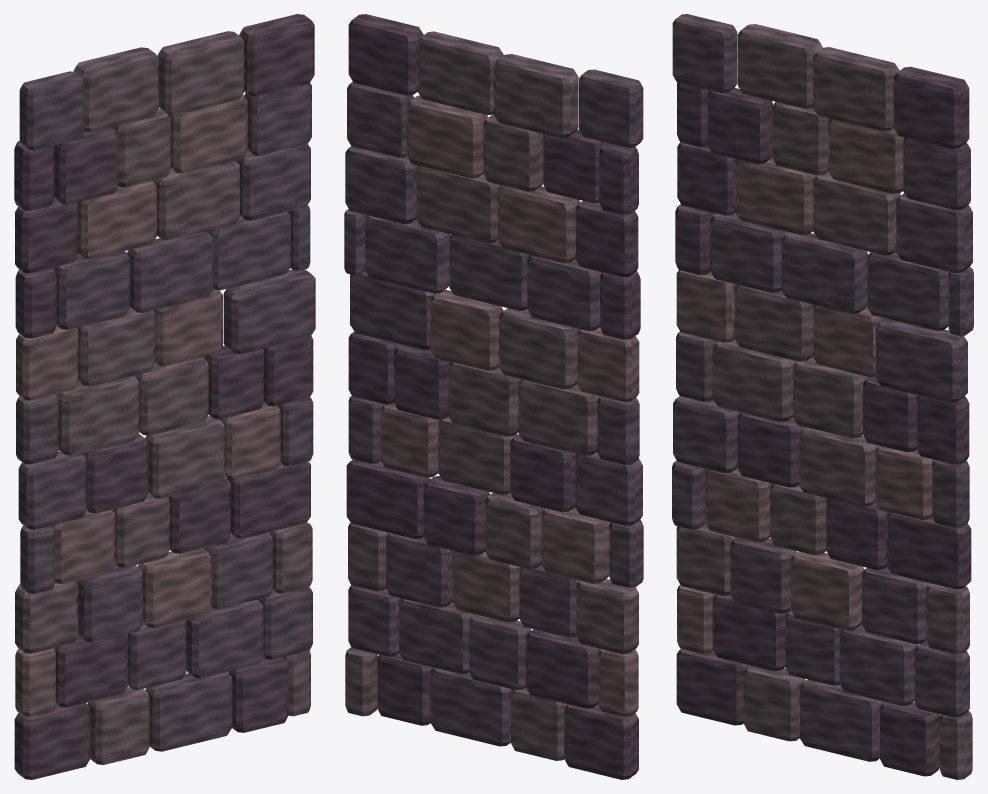
Rendered from gunners-masonry.glb.
3 views of the same model, side by side, from view 1: azimuth 30°, elevation 25°; view 2: azimuth 150°, elevation 25°; view 3: azimuth 330°, elevation 25° (orthographic).
Parts seen in each view (by area): view 1: gunners-masonry · Fortress masonry 0, gunners-masonry · Fortress masonry 1, gunners-masonry · Fortress masonry 2, gunners-masonry · Fortress masonry 3; view 2: gunners-masonry · Fortress masonry 0, gunners-masonry · Fortress masonry 1, gunners-masonry · Fortress masonry 2, gunners-masonry · Fortress masonry 3; view 3: gunners-masonry · Fortress masonry 0, gunners-masonry · Fortress masonry 1, gunners-masonry · Fortress masonry 2, gunners-masonry · Fortress masonry 3.
Part boxes in pixels (x1=…): gunners-masonry · Fortress masonry 0: x1=16, y1=71, x2=315, y2=751; gunners-masonry · Fortress masonry 1: x1=15, y1=31, x2=312, y2=764; gunners-masonry · Fortress masonry 2: x1=14, y1=14, x2=314, y2=779; gunners-masonry · Fortress masonry 3: x1=15, y1=95, x2=280, y2=716; gunners-masonry · Fortress masonry 0: x1=344, y1=69, x2=643, y2=746; gunners-masonry · Fortress masonry 1: x1=345, y1=31, x2=638, y2=760; gunners-masonry · Fortress masonry 2: x1=346, y1=14, x2=640, y2=779; gunners-masonry · Fortress masonry 3: x1=380, y1=95, x2=639, y2=716; gunners-masonry · Fortress masonry 0: x1=672, y1=14, x2=973, y2=761; gunners-masonry · Fortress masonry 1: x1=676, y1=24, x2=972, y2=779; gunners-masonry · Fortress masonry 2: x1=675, y1=66, x2=971, y2=776; gunners-masonry · Fortress masonry 3: x1=676, y1=118, x2=933, y2=653.
Bounding box in the file's own units: 4.77 × 10.95 × 0.5586.
Materials: 4 (4 with a texture image).
